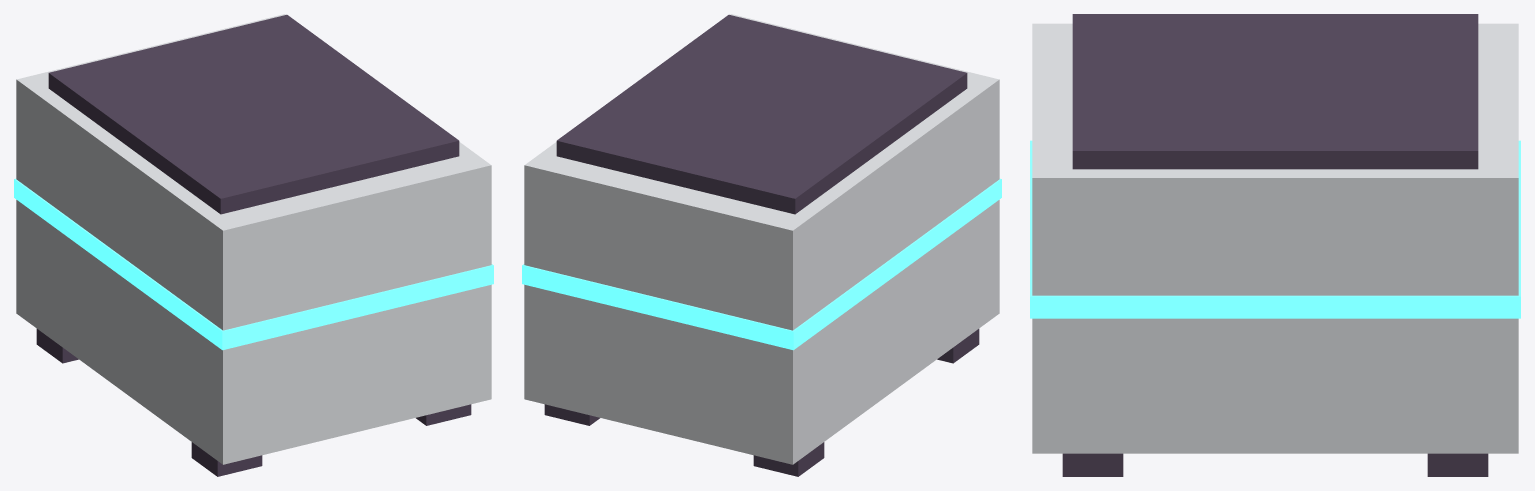
File: gs_van.gltf
3 views of the same model, side by side, from view 1: azimuth 30°, elevation 25°; view 2: azimuth 150°, elevation 25°; view 3: azimuth 270°, elevation 25° (orthographic). The views are drawn at different scales.
Visible parts, largest first — view 1: gs_van; view 2: gs_van; view 3: gs_van.
Part boxes in pixels (<box>): gs_van: <box>14,14,493,476</box>; gs_van: <box>522,14,1001,476</box>; gs_van: <box>1030,14,1520,476</box>.
Size of the model in its own units: 1.82 by 1.75 by 2.42.
